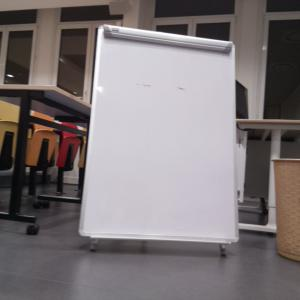big: (80, 24, 239, 249)
medium: (272, 158, 300, 263)
